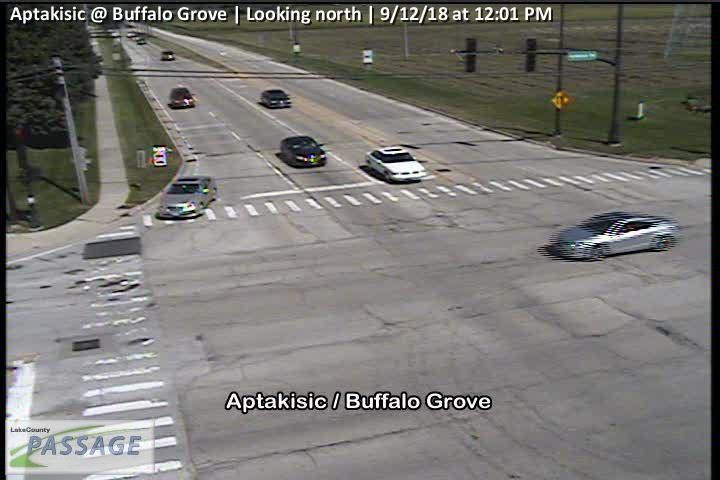Sedan: (549, 212, 680, 260), (156, 177, 218, 220), (365, 147, 428, 183), (280, 136, 328, 168), (260, 88, 292, 108), (170, 87, 195, 109), (161, 51, 175, 61)
